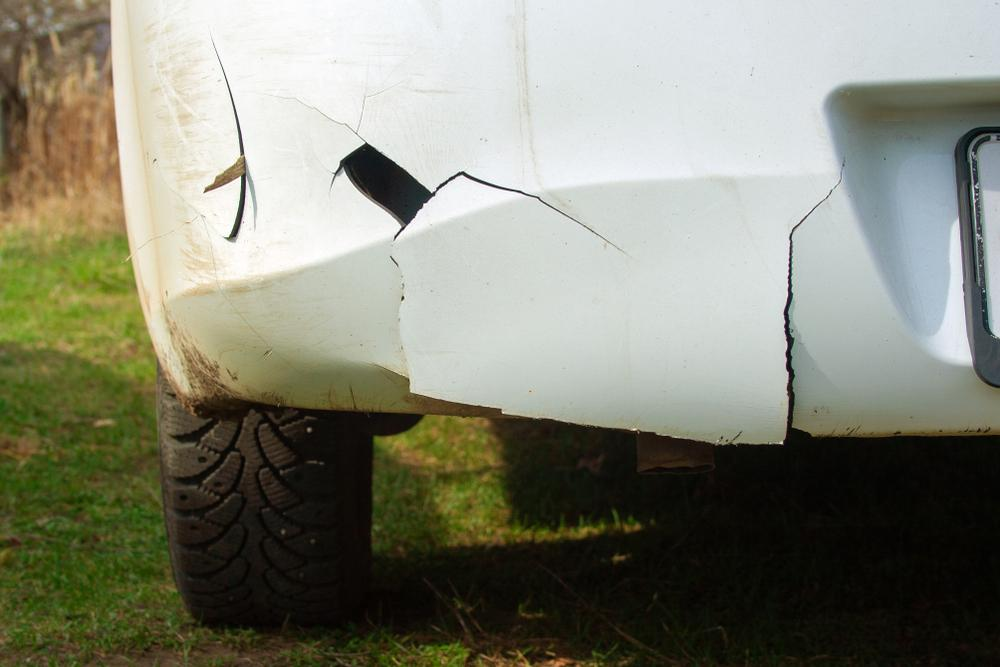crack: (260, 79, 641, 394), (156, 29, 302, 376), (781, 154, 848, 444)
